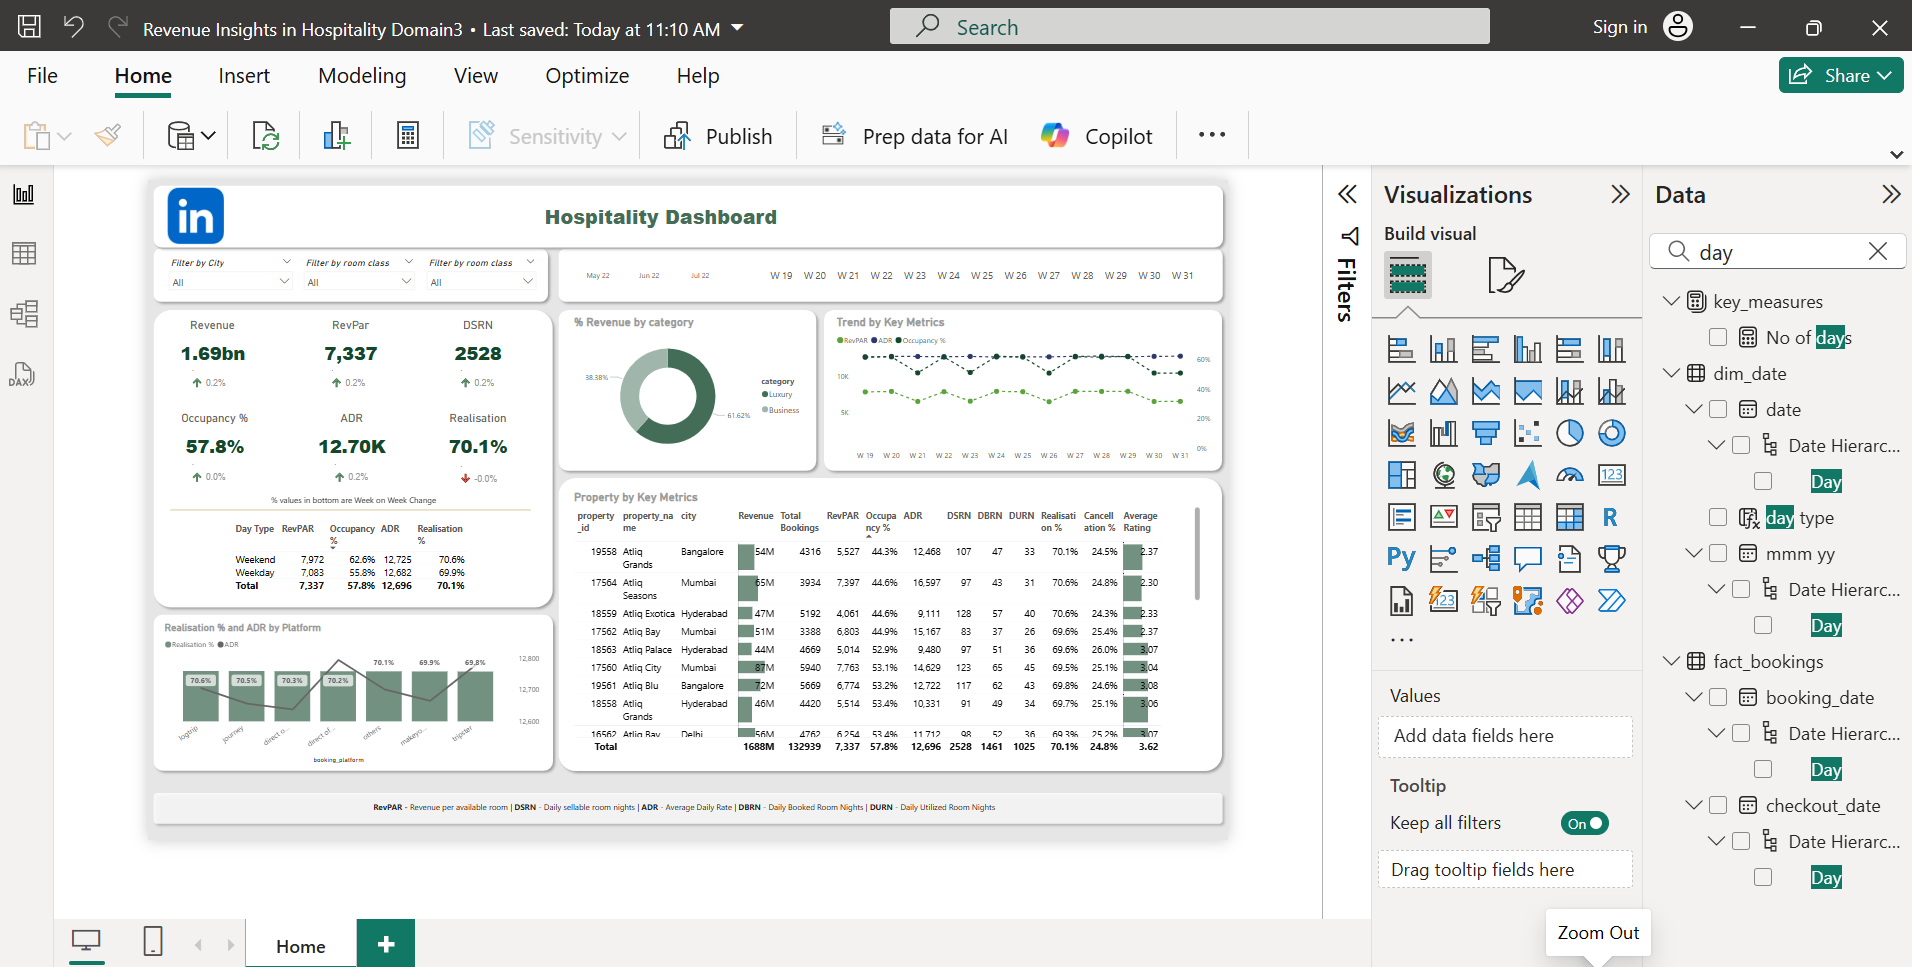

Layout of this report page (visuals, bound fields, positions):
{"tool":"powerbi","page":{"name":"Home","canvas":[1800,1100],"ordinal":0},"visuals":[{"type":"shape","box":[0,104.5,675.6,106.9],"z":0},{"type":"shape","box":[675.6,104.5,1125.1,106.9],"z":1000},{"type":"shape","box":[676,488,1124,506.7],"z":2000},{"type":"shape","box":[675.1,208.6,447.6,286.1],"z":3000},{"type":"shape","box":[1118.6,208.6,681.7,286.1],"z":4000},{"type":"shape","box":[0.2,207,683.4,513.9],"z":5000},{"type":"slicer","fields":{"Values":["dim_rooms.room_class"]},"box":[250.3,121.5,204.1,82.6],"z":6000},{"type":"slicer","fields":{"Values":["dim_hotels.city"]},"box":[24.3,121.5,226,87.5],"z":7000},{"type":"slicer","fields":{"Values":["dim_date.mmm yy"]},"box":[682.9,121.5,303.8,72.9],"z":8000},{"type":"card","title":"Revenue","fields":{"Values":["key_measures.Revenue"]},"box":[30.7,230.7,154.7,95.8],"z":8000,"group":"g2"},{"type":"card","title":"RevPar","fields":{"Values":["key_measures.Rev Par"]},"box":[257.9,230.7,160.2,95.8],"z":9000,"group":"g2"},{"type":"card","title":"Occupancy %","fields":{"Values":["key_measures.Occupancy %"]},"box":[14.7,386.3,192,96],"z":9000,"group":"g1"},{"type":"tableEx","title":"Property by Key Metrics","fields":{"Values":["dim_hotels.property_id","dim_hotels.property_name","dim_hotels.city","key_measures.Revenue","key_measures.Total Bookings","key_measures.Rev Par","key_measures.Occupancy %","key_measures.ADR","key_measures.DSRN","key_measures.DBRN","key_measures.DURN","key_measures.Realisation %"]},"box":[704,517.3,1053.3,445.3],"z":9000},{"type":"lineChart","title":"Trend by Key Metrics","fields":{"Category":["dim_date.mmm yy.Variation.Date Hierarchy.Month","dim_date.week no"],"Y2":["key_measures.Occupancy %"],"Y":["key_measures.Rev Par","key_measures.ADR"]},"box":[1142.7,225.3,633.3,252],"z":10000},{"type":"card","title":"DSRN","fields":{"Values":["key_measures.DSRN"]},"box":[456.5,231.1,189.3,96],"z":11000,"group":"g2"},{"type":"tableEx","fields":{"Values":["dim_date.day type","key_measures.Rev Par","key_measures.Occupancy %","key_measures.ADR","key_measures.Realisation %"]},"box":[135.1,564.9,437.2,129.8],"z":11000},{"type":"card","title":"ADR","fields":{"Values":["key_measures.ADR"]},"box":[241.4,385.9,193.3,96],"z":12000,"group":"g1"},{"type":"shape","box":[0,716,684,278.7],"z":12000},{"type":"card","title":"Realisation","fields":{"Values":["key_measures.Realisation %"]},"box":[452.5,386.8,194.7,96],"z":13000,"group":"g1"},{"type":"lineStackedColumnComboChart","title":"Realisation % and ADR by Platform","fields":{"Category":["fact_bookings.booking_platform"],"Y":["key_measures.Realisation %"],"Y2":["key_measures.ADR"]},"box":[21.3,736,634.7,241.3],"z":13000},{"type":"slicer","fields":{"Values":["dim_date.week no"]},"box":[1003.6,121.5,772.8,72.9],"z":14000},{"type":"shape","box":[0,1013.3,1800,69.3],"z":15000},{"type":"group","id":"g1","title":"Group 1","box":[14.7,385.9,632.4,96.9],"z":16000},{"type":"slicer","fields":{"Values":["dim_rooms.room_class"]},"box":[454.4,121.5,201.7,82.6],"z":19000},{"type":"group","id":"g2","title":"Group 2","box":[30.7,230.7,615.1,96.4],"z":20000},{"type":"tableEx","fields":{"Values":["key_measures.Revpar WoW change %"]},"box":[296,297.3,92,58.7],"z":21000},{"type":"textbox","box":[345,1029.6,1093.6,39],"z":22000},{"type":"shape","box":[38.7,542.7,600,14.7],"z":23000},{"type":"tableEx","fields":{"Values":["key_measures.Revpar WoW change %"]},"box":[61.3,297.3,92,58.7],"z":24000},{"type":"tableEx","fields":{"Values":["key_measures.Revpar WoW change %"]},"box":[509.3,297.3,92,58.7],"z":25000},{"type":"donutChart","title":"% Revenue by category","fields":{"Category":["dim_hotels.category"],"Y":["key_measures.Revenue"]},"box":[704,225.3,396,248],"z":26000},{"type":"group","id":"g3","title":"Group 3","box":[61.3,454.3,540,60],"z":27000},{"type":"tableEx","fields":{"Values":["key_measures.Occupancy WoW change %"]},"box":[61.3,454.3,92,58.7],"z":27000,"group":"g3"},{"type":"tableEx","fields":{"Values":["key_measures.ADR WoW change %"]},"box":[298.6,454.3,92,58.7],"z":28000,"group":"g3"},{"type":"textbox","box":[200,517.3,308,33.3],"z":28000},{"type":"shape","box":[0,0,1800.7,121.5],"z":28001},{"type":"textbox","box":[206.6,31.6,1139.7,72.9],"z":28002},{"type":"image","box":[21.9,7.3,114.2,104.5],"z":28003},{"type":"tableEx","fields":{"Values":["key_measures.Realisation WoW change %"]},"box":[509.3,455.6,92,58.7],"z":29000,"group":"g3"}]}

Visuals, with their boxes on the page's 1800x1100 design canvas (x1, y1, x2, y2). These are canvas units, not pixel positions in the 1912x967 screenshot, which may show the page scaled, cropped or inside an application window:
shape: locate(0, 104, 676, 211)
shape: locate(676, 104, 1801, 211)
shape: locate(676, 488, 1800, 995)
shape: locate(675, 209, 1123, 495)
shape: locate(1119, 209, 1800, 495)
shape: locate(0, 207, 684, 721)
slicer - dim_rooms.room_class: locate(250, 122, 454, 204)
slicer - dim_hotels.city: locate(24, 122, 250, 209)
slicer - dim_date.mmm yy: locate(683, 122, 987, 194)
"Revenue" card: locate(31, 231, 185, 326)
"RevPar" card: locate(258, 231, 418, 326)
"Occupancy %" card: locate(15, 386, 207, 482)
"Property by Key Metrics" tableEx: locate(704, 517, 1757, 963)
"Trend by Key Metrics" lineChart: locate(1143, 225, 1776, 477)
"DSRN" card: locate(456, 231, 646, 327)
tableEx - dim_date.day type x key_measures.Rev Par: locate(135, 565, 572, 695)
"ADR" card: locate(241, 386, 435, 482)
shape: locate(0, 716, 684, 995)
"Realisation" card: locate(452, 387, 647, 483)
"Realisation % and ADR by Platform" lineStackedColumnComboChart: locate(21, 736, 656, 977)
slicer - dim_date.week no: locate(1004, 122, 1776, 194)
shape: locate(0, 1013, 1800, 1083)
"Group 1" group: locate(15, 386, 647, 483)
slicer - dim_rooms.room_class: locate(454, 122, 656, 204)
"Group 2" group: locate(31, 231, 646, 327)
tableEx - key_measures.Revpar WoW change %: locate(296, 297, 388, 356)
textbox: locate(345, 1030, 1439, 1069)
shape: locate(39, 543, 639, 557)
tableEx - key_measures.Revpar WoW change %: locate(61, 297, 153, 356)
tableEx - key_measures.Revpar WoW change %: locate(509, 297, 601, 356)
"% Revenue by category" donutChart: locate(704, 225, 1100, 473)
"Group 3" group: locate(61, 454, 601, 514)
tableEx - key_measures.Occupancy WoW change %: locate(61, 454, 153, 513)
tableEx - key_measures.ADR WoW change %: locate(299, 454, 391, 513)
textbox: locate(200, 517, 508, 551)
shape: locate(0, 0, 1801, 122)
textbox: locate(207, 32, 1346, 104)
image: locate(22, 7, 136, 112)
tableEx - key_measures.Realisation WoW change %: locate(509, 456, 601, 514)
